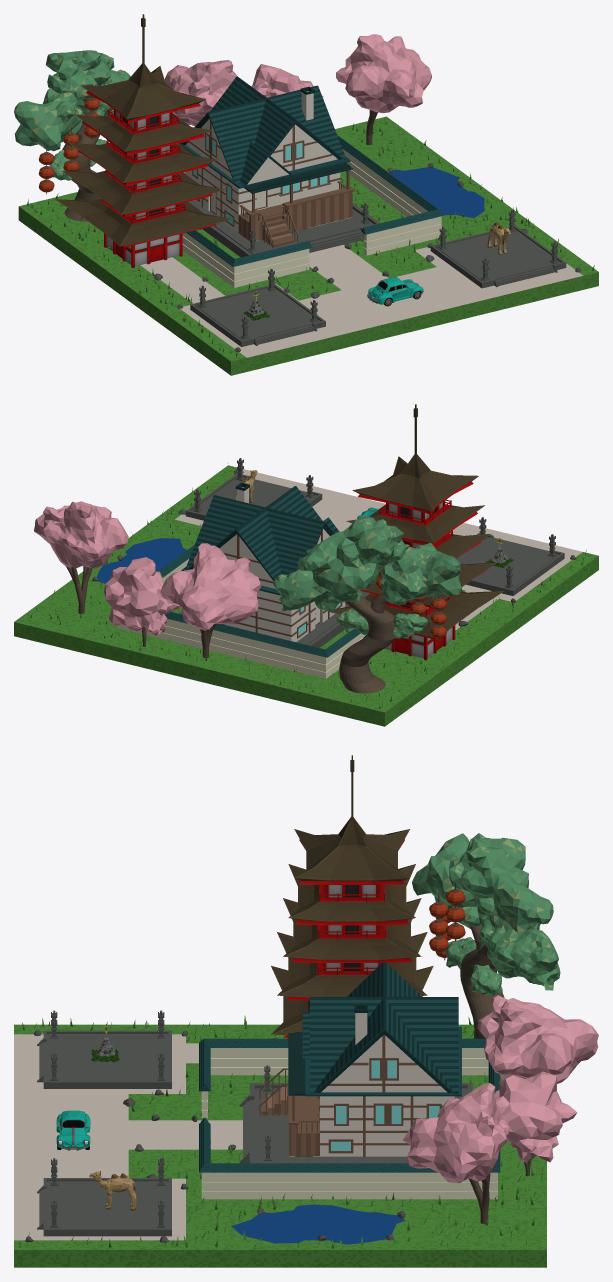
3 renders of one model, top to bottom at view 1: azimuth 30°, elevation 25°; view 2: azimuth 150°, elevation 25°; view 3: azimuth 270°, elevation 25°, orthographic. The views are drawn at different scales.
Parts seen in each view (by area): view 1: Cube.005, Cube.793, VEHICLES_VOLKSWAGEN; view 2: Cube.005, Cube.793; view 3: Cube.005, Cube.793, VEHICLES_VOLKSWAGEN, ANIMAL_CAMELLO.
Boxes of the visible parts, left/top/right/bottom form: Cube.005: left=14, top=14, right=598, bottom=375; Cube.793: left=179, top=76, right=355, bottom=248; VEHICLES_VOLKSWAGEN: left=367, top=276, right=423, bottom=306; Cube.005: left=14, top=404, right=598, bottom=726; Cube.793: left=181, top=482, right=347, bottom=641; Cube.005: left=14, top=755, right=598, bottom=1267; Cube.793: left=259, top=961, right=461, bottom=1156; VEHICLES_VOLKSWAGEN: left=56, top=1110, right=90, bottom=1150; ANIMAL_CAMELLO: left=89, top=1170, right=136, bottom=1210.
Size of the model in its own units: 4528 by 2698 by 4389.
39 materials, 6 textured.
